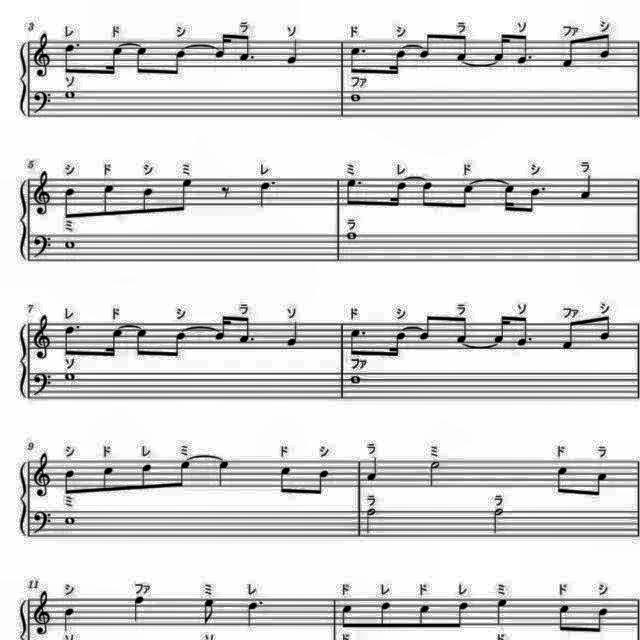Bass-clef: (30, 87, 54, 117), (28, 229, 52, 259), (30, 509, 54, 539), (28, 369, 52, 398)
Eighth-note: (170, 176, 196, 218), (60, 321, 84, 359), (168, 328, 192, 364), (514, 312, 538, 348), (98, 181, 119, 221), (61, 40, 83, 78), (346, 42, 369, 78), (522, 184, 546, 218), (588, 604, 612, 638), (454, 179, 478, 213), (551, 463, 573, 499), (167, 45, 190, 79), (235, 313, 258, 347), (170, 458, 194, 490), (132, 323, 152, 361), (450, 599, 472, 633), (343, 177, 365, 211), (347, 325, 369, 359), (233, 33, 255, 67), (313, 468, 335, 502), (587, 471, 609, 504), (554, 600, 574, 636), (276, 463, 296, 499), (132, 44, 152, 80), (60, 186, 80, 222), (560, 38, 580, 74), (516, 30, 536, 66), (95, 465, 116, 499), (374, 600, 396, 632), (137, 184, 157, 218), (136, 461, 156, 495), (560, 317, 580, 351), (415, 600, 435, 632), (418, 178, 438, 210), (200, 596, 220, 628), (417, 32, 437, 64), (594, 30, 614, 61), (452, 316, 472, 346), (594, 313, 614, 343), (61, 466, 79, 498), (453, 32, 471, 64), (416, 316, 436, 344), (339, 601, 357, 631)
Eighth-rest: (216, 182, 234, 202)
Full-note: (346, 370, 366, 388), (60, 368, 80, 384), (61, 236, 79, 252), (60, 86, 78, 102), (348, 90, 364, 106), (62, 514, 78, 528), (344, 230, 361, 242)
Half-note: (424, 459, 444, 491), (361, 504, 379, 536), (489, 505, 507, 535)
Quarter-dot: (256, 178, 280, 212), (242, 599, 266, 631)
Quarter-note: (130, 593, 152, 623), (492, 594, 512, 626), (362, 454, 382, 484), (214, 458, 234, 488), (283, 319, 303, 349), (576, 172, 596, 200), (284, 37, 302, 67), (62, 606, 78, 634)
Sixteenth-note: (102, 42, 126, 82), (102, 323, 126, 361), (385, 324, 409, 360), (385, 46, 409, 78), (386, 178, 410, 210), (210, 312, 232, 346), (498, 180, 518, 216), (211, 32, 233, 64), (490, 313, 510, 347), (490, 32, 510, 64)
Treble-clef: (28, 171, 52, 221), (28, 590, 52, 640), (32, 450, 56, 500), (28, 32, 52, 82), (32, 313, 56, 362)
